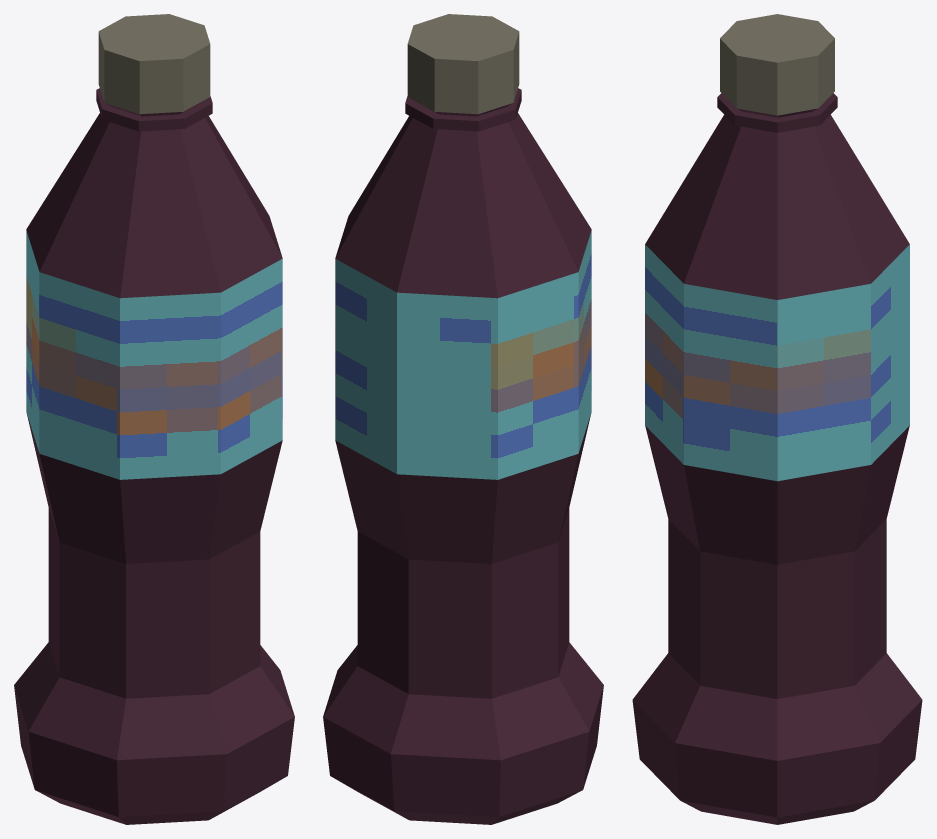
Rendered from Soda_02.glb.
The picture shows the model from 3 angles, left to right: view 1: azimuth 30°, elevation 25°; view 2: azimuth 150°, elevation 25°; view 3: azimuth 270°, elevation 25°; orthographic projection.
Parts seen in each view (by area): view 1: Soda_02; view 2: Soda_02; view 3: Soda_02.
Part boxes in pixels (<box>): Soda_02: <box>14,14,294,824</box>; Soda_02: <box>323,14,603,824</box>; Soda_02: <box>632,14,922,824</box>.
Bounding box in the file's own units: 0.0798 × 0.225 × 0.0798.
1 material, 1 textured.
